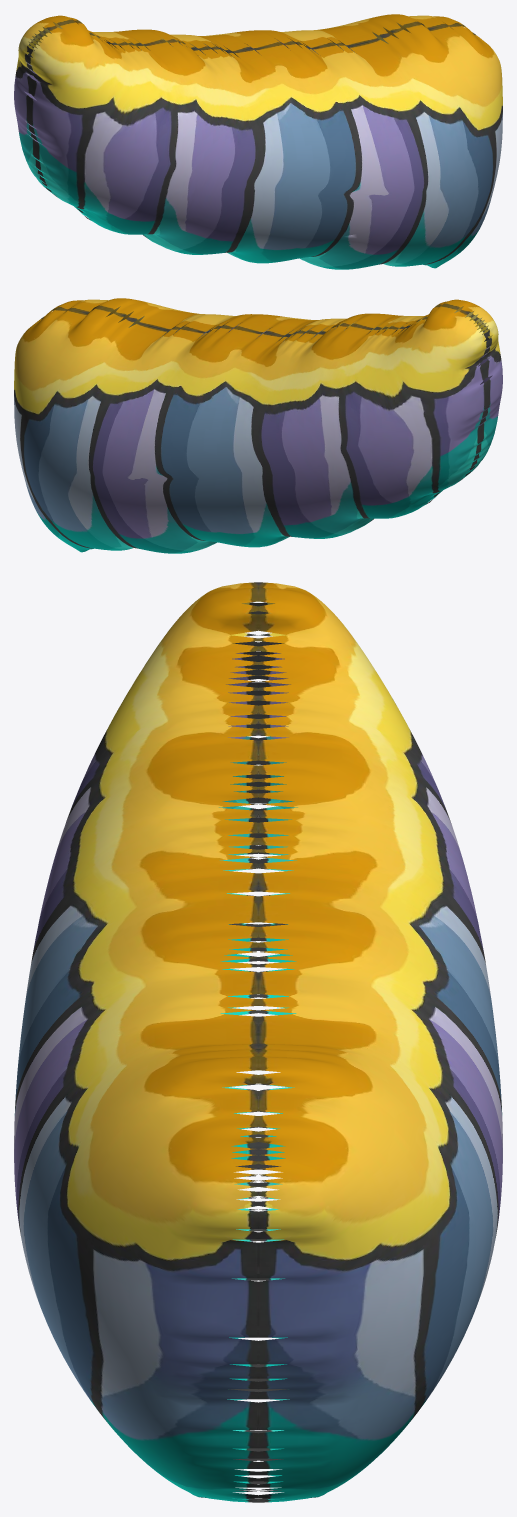
File: channel_cliff.glb
The picture shows the model from 3 angles, top to bottom: view 1: azimuth 30°, elevation 25°; view 2: azimuth 150°, elevation 25°; view 3: azimuth 270°, elevation 25°; orthographic projection. The views are drawn at different scales.
Visible parts, largest first — view 1: channel_cliff; view 2: channel_cliff; view 3: channel_cliff.
Boxes of the visible parts, bbox=[...] form: channel_cliff: bbox=[14, 14, 502, 269]; channel_cliff: bbox=[14, 298, 502, 553]; channel_cliff: bbox=[14, 582, 502, 1502].
Size of the model in its own units: 0.989 by 0.6534 by 0.4943.
Materials: 1 (1 with a texture image).
